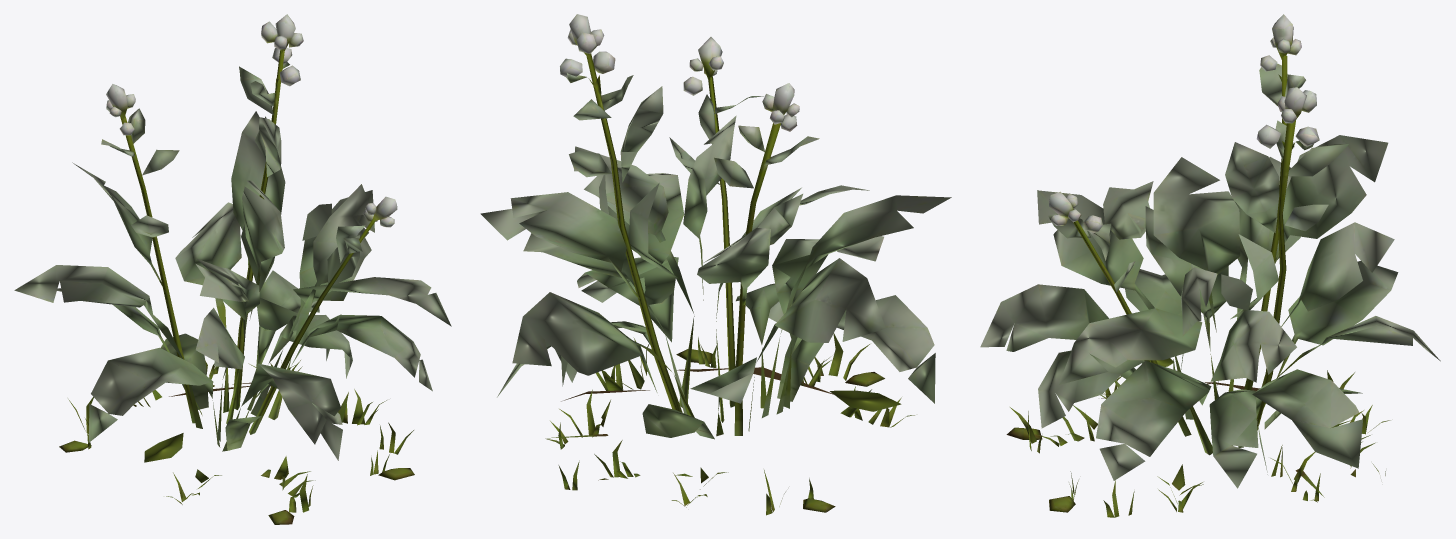
The model's file is node_herb_silverleaf.glb.
The picture shows the model from 3 angles, left to right: view 1: azimuth 30°, elevation 25°; view 2: azimuth 150°, elevation 25°; view 3: azimuth 270°, elevation 25°; orthographic projection. The views are drawn at different scales.
Parts seen in each view (by area): view 1: tripo_node_063a5e1f-5d80-4edf-9ae5-cf2347f43e4c; view 2: tripo_node_063a5e1f-5d80-4edf-9ae5-cf2347f43e4c; view 3: tripo_node_063a5e1f-5d80-4edf-9ae5-cf2347f43e4c.
Part boxes in pixels (box(x1,y1,x2,y2)): tripo_node_063a5e1f-5d80-4edf-9ae5-cf2347f43e4c: box(14, 14, 451, 524); tripo_node_063a5e1f-5d80-4edf-9ae5-cf2347f43e4c: box(480, 14, 951, 515); tripo_node_063a5e1f-5d80-4edf-9ae5-cf2347f43e4c: box(980, 14, 1440, 517).
Size of the model in its own units: 0.8789 by 0.9 by 0.9.
1 material, 1 textured.
